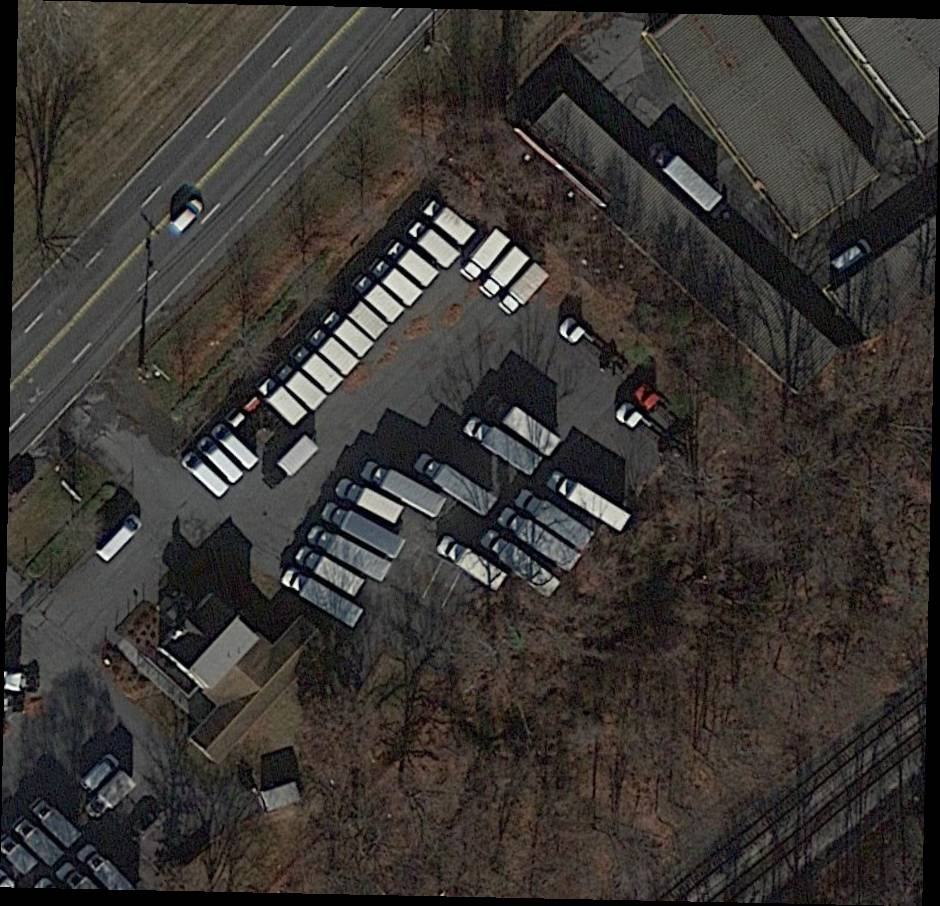large vehicle: (642, 137, 725, 217), (545, 467, 635, 535), (481, 528, 562, 599), (415, 452, 499, 518), (359, 459, 448, 519), (281, 566, 367, 628), (501, 508, 584, 572), (514, 486, 598, 549), (321, 499, 408, 559), (310, 524, 394, 585), (463, 414, 545, 476), (485, 393, 563, 457), (436, 535, 508, 593), (295, 545, 368, 597), (336, 475, 407, 526), (82, 767, 141, 824), (498, 259, 553, 318), (25, 793, 83, 848), (9, 813, 64, 870), (368, 257, 426, 311), (93, 512, 148, 568), (273, 359, 330, 413), (290, 339, 346, 393), (420, 196, 478, 247), (256, 374, 310, 428), (351, 272, 405, 326), (480, 243, 532, 299), (459, 230, 512, 283), (407, 219, 462, 269), (178, 450, 233, 500), (382, 239, 439, 287), (197, 433, 247, 486), (321, 311, 376, 359), (308, 328, 361, 376), (212, 422, 262, 471)
small vehicle: (827, 234, 874, 279), (77, 750, 122, 794)
